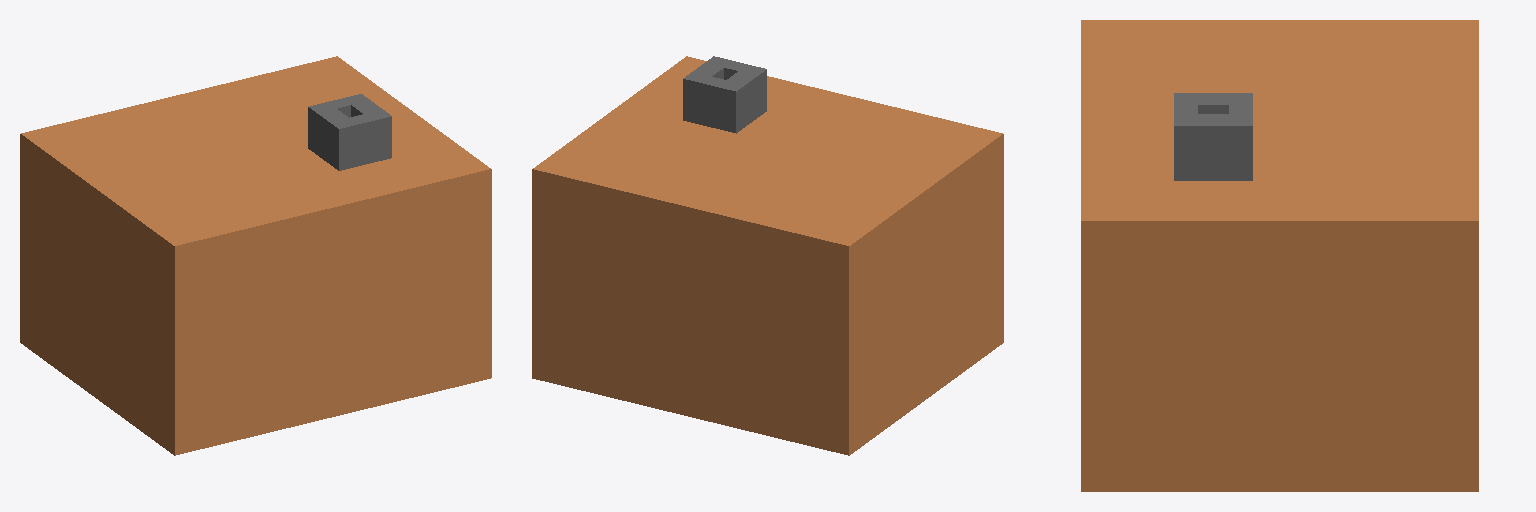
URDF robot description (peg_in_hole_tolerances_scenes_scene_0042_tol08):
<?xml version="1.0"?>
<robot name="peg_in_hole_tolerances_scenes_scene_0042_tol08">
  <material name="wood"><color rgba="0.82 0.56 0.35 1.0"/></material>
  <material name="hole_grey"><color rgba="0.4706 0.4706 0.4706 1.0"/></material>
  <link name="box">
    <visual>
      <origin xyz="0.000000 0.000000 0.000000" rpy="0 0 0"/>
      <geometry><box size="0.475000 0.400000 0.300000"/></geometry>
      <material name="wood"/>
    </visual>
    <collision>
      <origin xyz="0.000000 0.000000 0.000000" rpy="0 0 0"/>
      <geometry><box size="0.475000 0.400000 0.300000"/></geometry>
    </collision>
    <visual>
      <origin xyz="0.102741 -0.066709 0.155000" rpy="0 0 0"/>
      <geometry><box size="0.080000 0.080000 0.010000"/></geometry>
      <material name="hole_grey"/>
    </visual>
    <collision>
      <origin xyz="0.102741 -0.066709 0.155000" rpy="0 0 0"/>
      <geometry><box size="0.080000 0.080000 0.010000"/></geometry>
    </collision>
    <visual>
      <origin xyz="0.128164 -0.066709 0.185000" rpy="0 0 0"/>
      <geometry><box size="0.029155 0.080000 0.050000"/></geometry>
      <material name="hole_grey"/>
    </visual>
    <collision>
      <origin xyz="0.128164 -0.066709 0.185000" rpy="0 0 0"/>
      <geometry><box size="0.029155 0.080000 0.050000"/></geometry>
    </collision>
    <visual>
      <origin xyz="0.077318 -0.066709 0.185000" rpy="0 0 0"/>
      <geometry><box size="0.029155 0.080000 0.050000"/></geometry>
      <material name="hole_grey"/>
    </visual>
    <collision>
      <origin xyz="0.077318 -0.066709 0.185000" rpy="0 0 0"/>
      <geometry><box size="0.029155 0.080000 0.050000"/></geometry>
    </collision>
    <visual>
      <origin xyz="0.102741 -0.038786 0.185000" rpy="0 0 0"/>
      <geometry><box size="0.021691 0.024155 0.050000"/></geometry>
      <material name="hole_grey"/>
    </visual>
    <collision>
      <origin xyz="0.102741 -0.038786 0.185000" rpy="0 0 0"/>
      <geometry><box size="0.021691 0.024155 0.050000"/></geometry>
    </collision>
    <visual>
      <origin xyz="0.102741 -0.094632 0.185000" rpy="0 0 0"/>
      <geometry><box size="0.021691 0.024155 0.050000"/></geometry>
      <material name="hole_grey"/>
    </visual>
    <collision>
      <origin xyz="0.102741 -0.094632 0.185000" rpy="0 0 0"/>
      <geometry><box size="0.021691 0.024155 0.050000"/></geometry>
    </collision>
    <inertial>
      <mass value="500"/>
      <friction value="1.0"/>
      <inertia ixx="1000.0" ixy="0.0" ixz="0.0" iyy="1000.0" iyz="0.0" izz="1000.0"/>
    </inertial>
  </link>
</robot>

--- Facts derived from the render (not from the file) ---
Views: 3 orthographic renders of the robot side by side, from view 1: azimuth 30°, elevation 25°; view 2: azimuth 150°, elevation 25°; view 3: azimuth 270°, elevation 25°.
Model peg_in_hole_tolerances_scenes_scene_0042_tol08 with 1 links and 0 joints (none), rooted at box, posed all joints at 0.
Visible links, largest first — view 1: box; view 2: box; view 3: box.
Boxes of the visible links, box(x1,y1,x2,y2) form: box: box(20, 56, 491, 455); box: box(532, 56, 1003, 455); box: box(1081, 20, 1478, 491).
Bounding box of the posed robot: 0.475 × 0.4 × 0.36 m (x, y, z).
Geometry: primitives only (box / cylinder / sphere), no mesh files.
